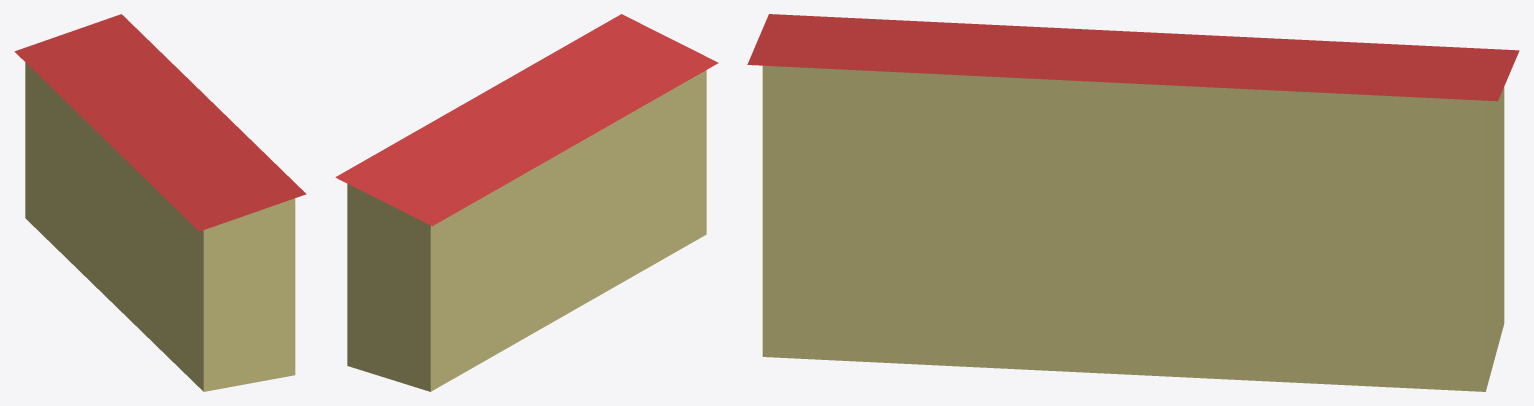
3 views of the same model, side by side, from view 1: azimuth 30°, elevation 25°; view 2: azimuth 150°, elevation 25°; view 3: azimuth 270°, elevation 25° (orthographic). The views are drawn at different scales.
Size of the model in its own units: 4.95 by 13.91 by 5.9.
